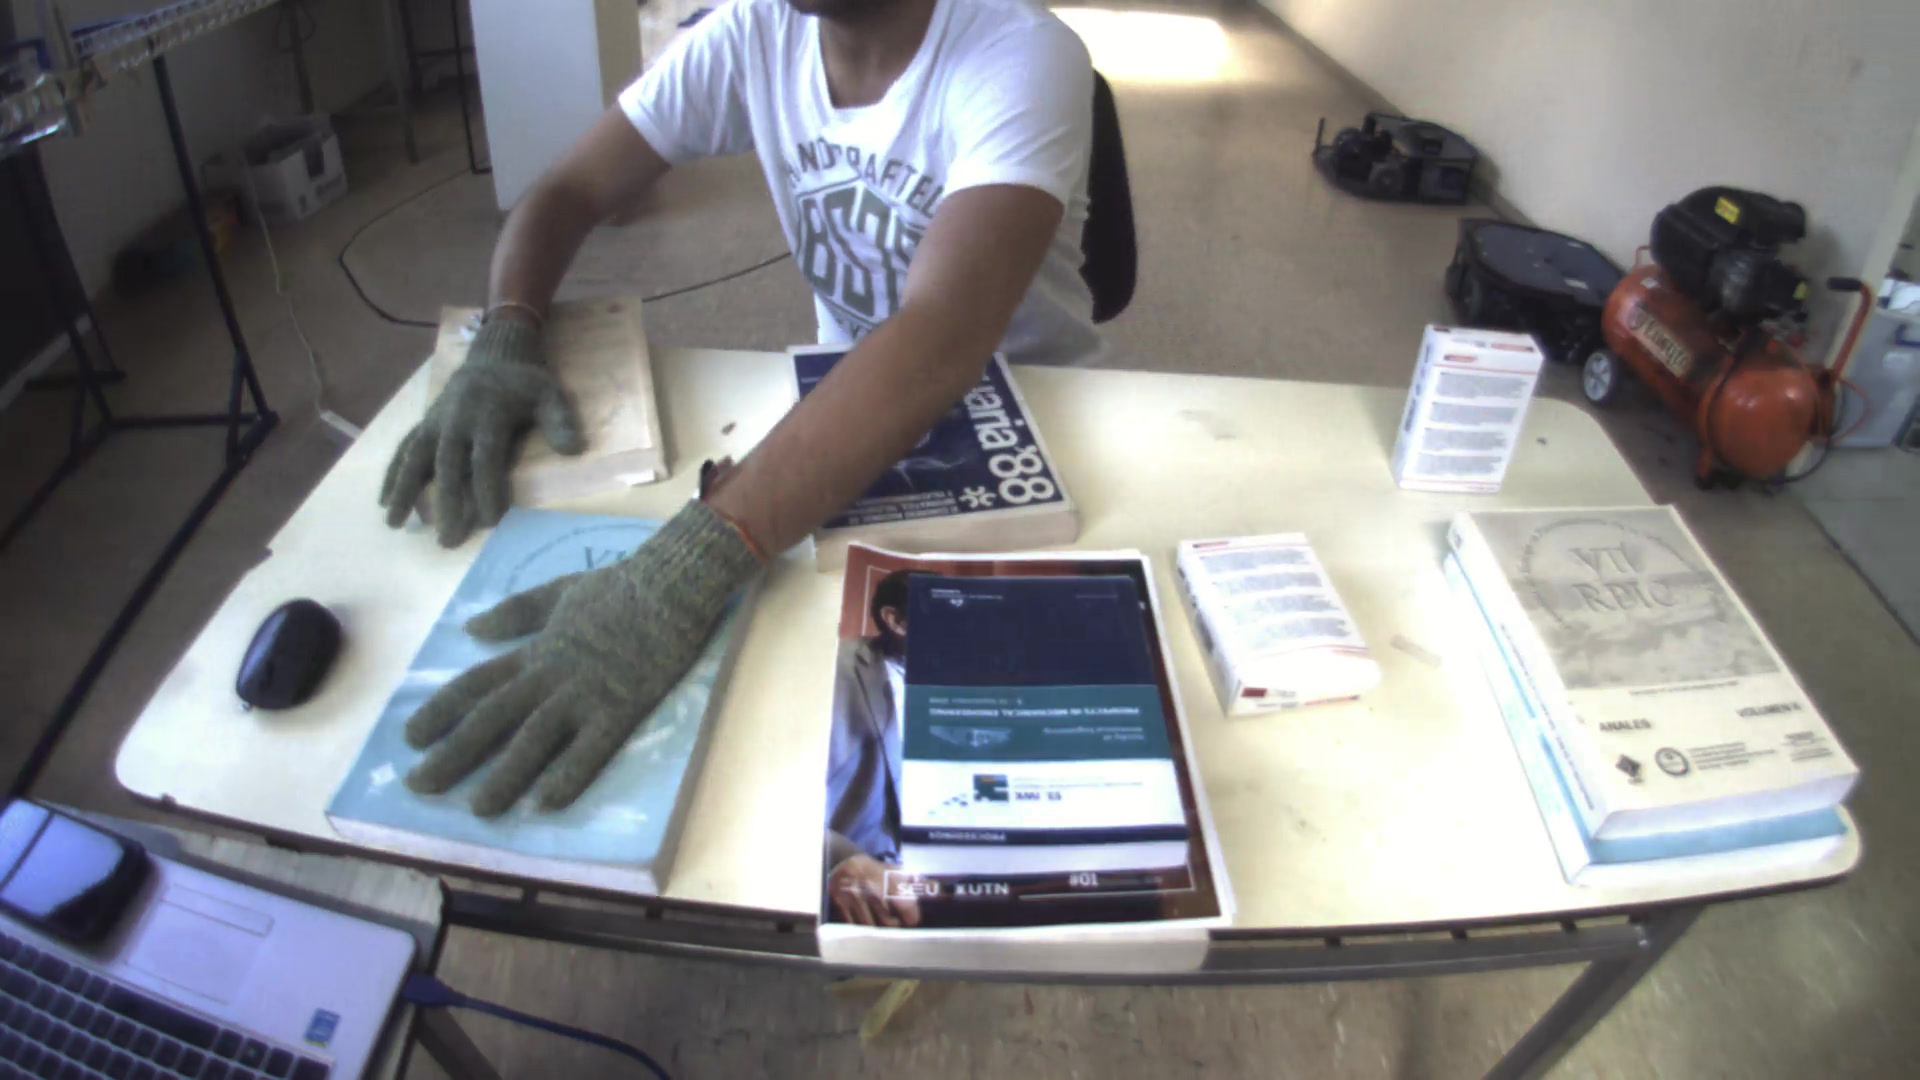hand: (372, 520, 754, 841), (377, 291, 570, 551)
